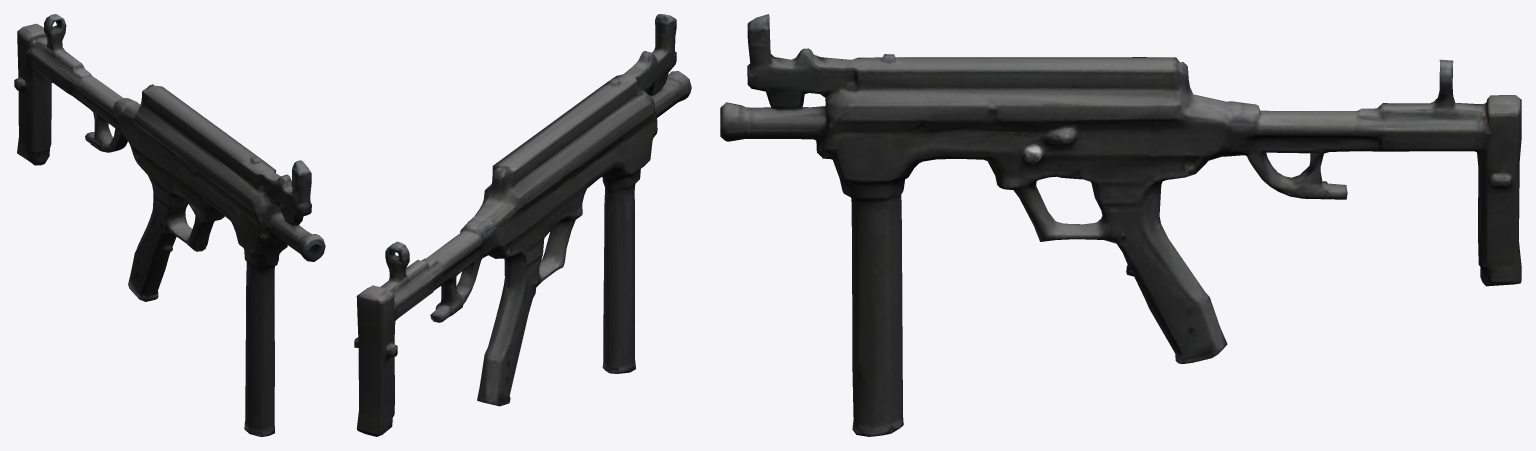
Rendered from gun_smg.glb.
3 views of the same model, side by side, from view 1: azimuth 30°, elevation 25°; view 2: azimuth 150°, elevation 25°; view 3: azimuth 270°, elevation 25° (orthographic). The views are drawn at different scales.
Parts seen in each view (by area): view 1: gun_smg; view 2: gun_smg; view 3: gun_smg.
Boxes of the visible parts, left/top/right/bottom form: gun_smg: left=14, top=14, right=325, bottom=436; gun_smg: left=354, top=14, right=691, bottom=436; gun_smg: left=720, top=14, right=1521, bottom=436.
Bounding box in the file's own units: 0.0866 × 0.5708 × 1.
1 material, 1 textured.
